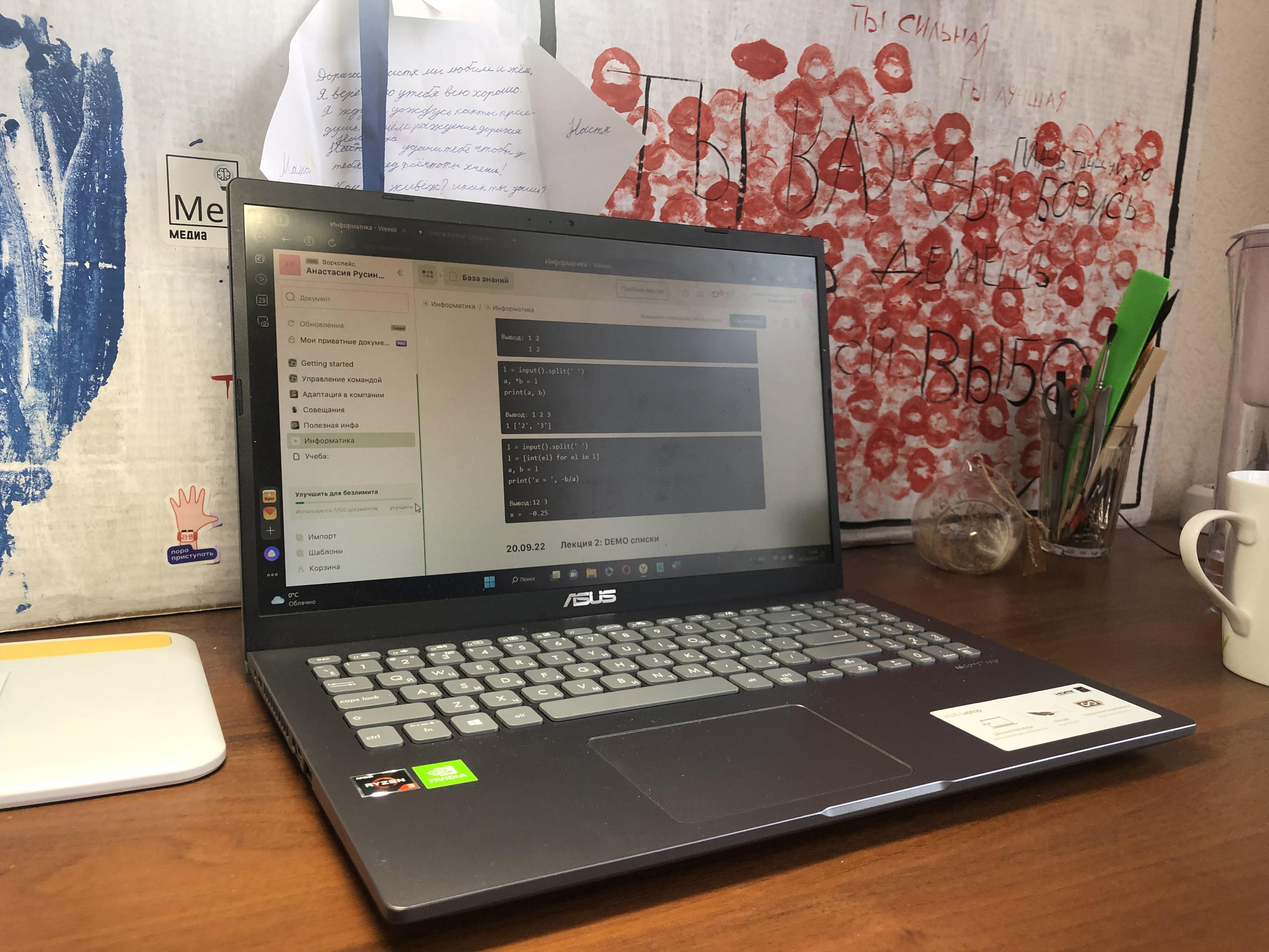monitor: (217, 172, 851, 652)
